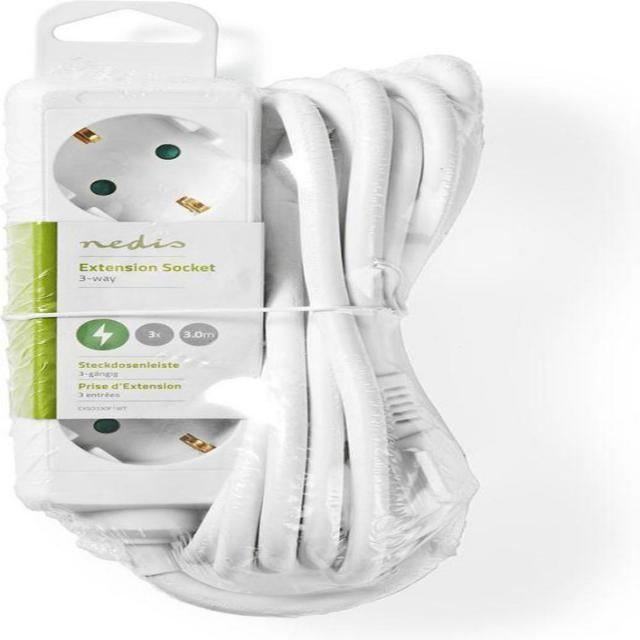typeb: (47, 102, 270, 222)
